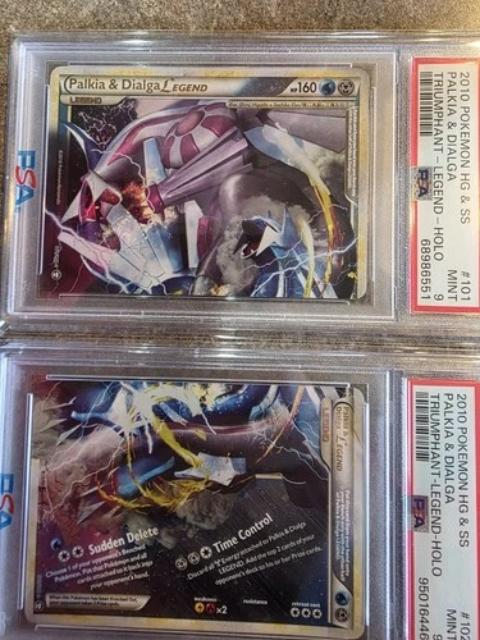Card: (21, 376, 372, 639), (37, 61, 372, 307)
Name: (63, 72, 215, 98), (329, 400, 353, 480)
